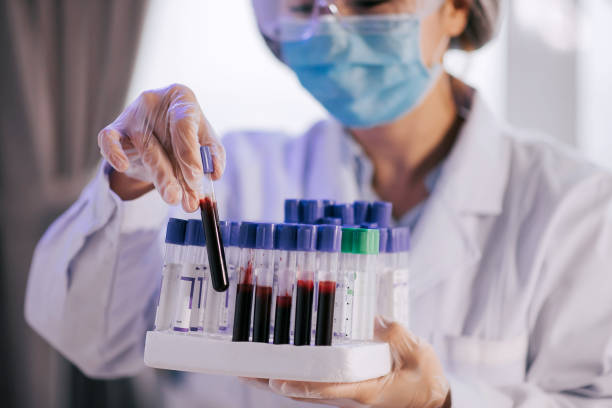blood: (197, 194, 230, 294), (231, 260, 253, 342), (315, 279, 338, 346), (292, 277, 314, 347), (250, 284, 273, 343), (272, 292, 292, 346)
